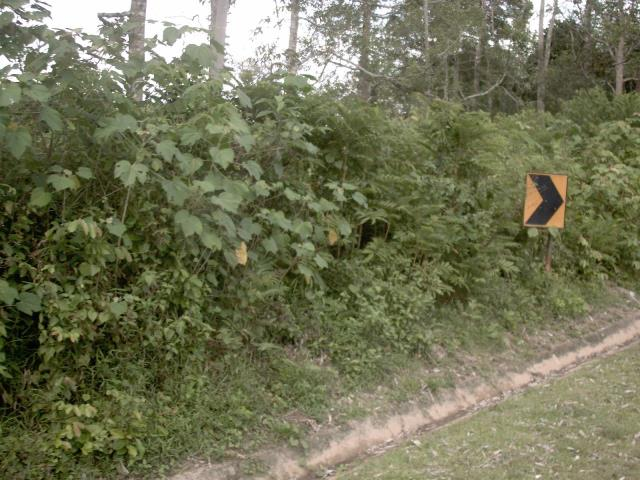traffic_sign: (513, 161, 577, 239)
